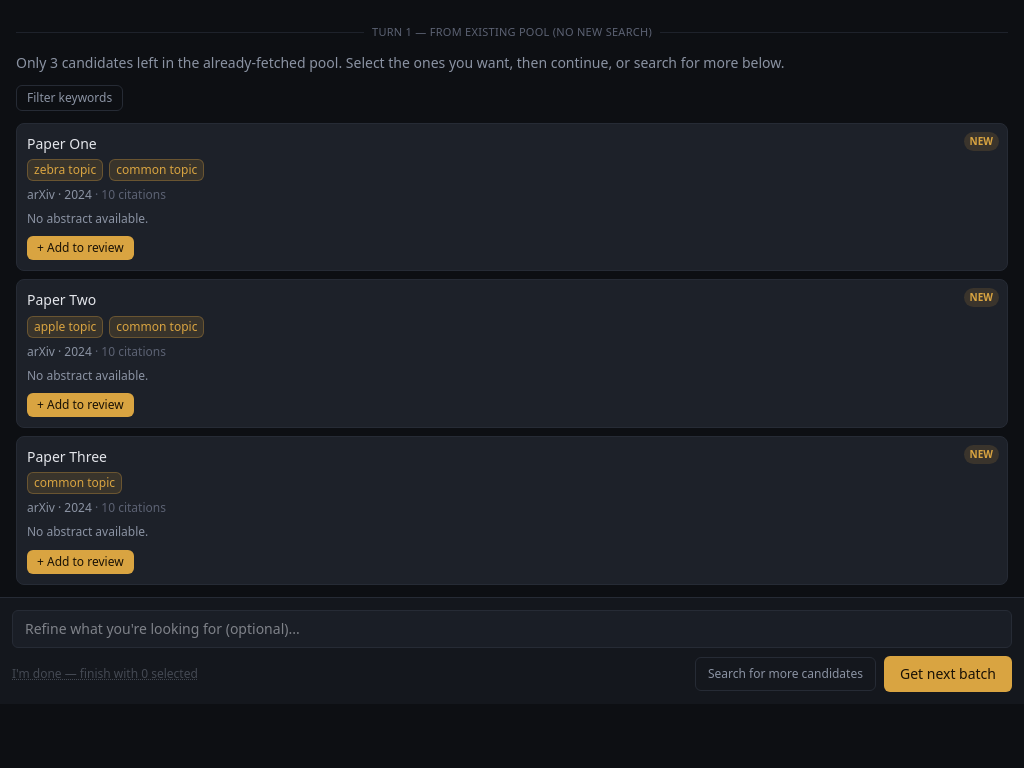
it: ReviewModePanel -- Paper Keywords and Filtering, K4.2: Popular/Browse-all filter › options are sorted by descending paper count, then alphabetically by label for ties
Click the button with test id "keyword-filter-toggle". click: (70, 98)
box: [16,84,123,110]
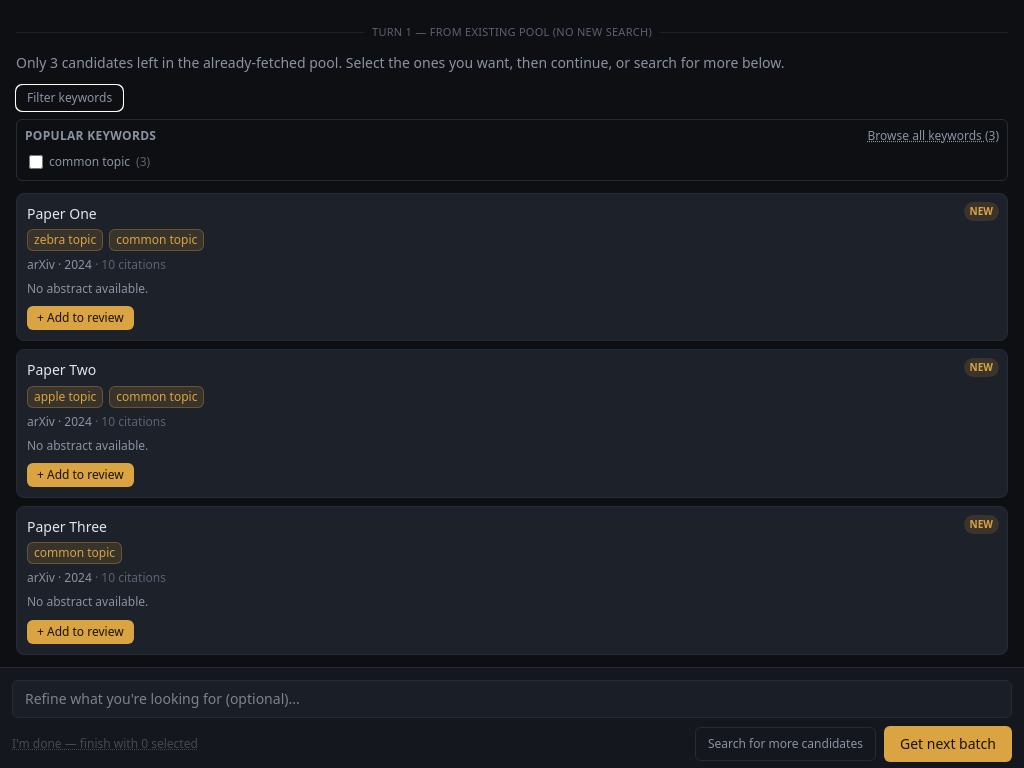
Click the button with test id "keyword-browse-all-toggle". click: (933, 136)
box: [868,128,999,144]
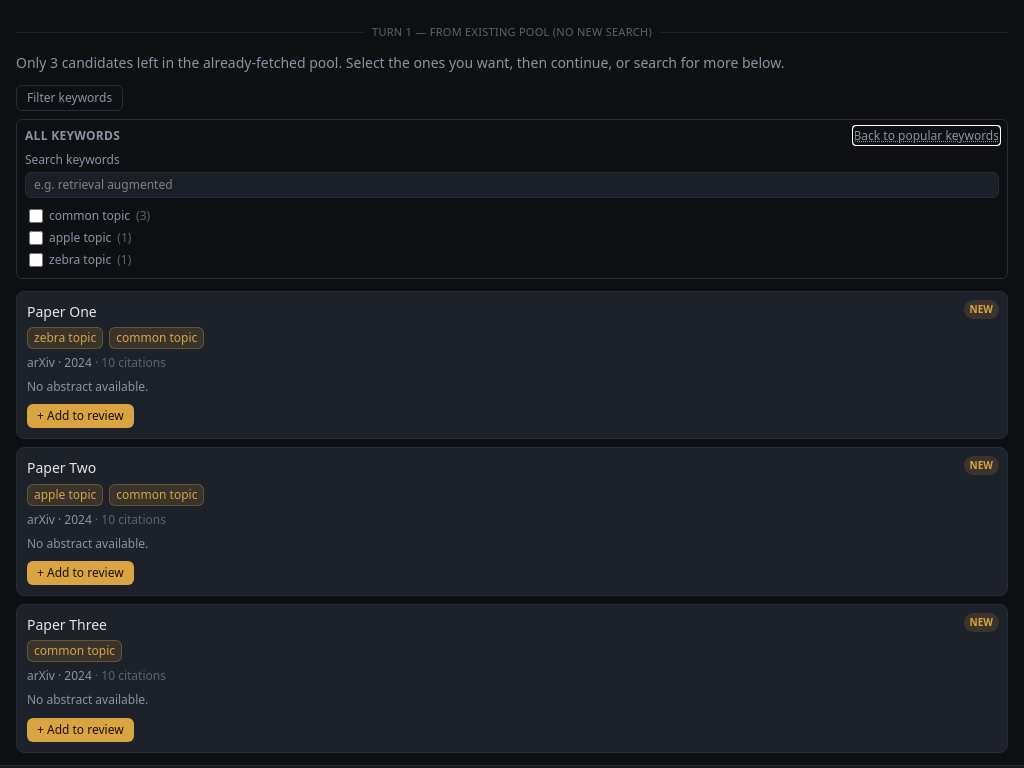
Check: the label with test id "^keyword-filter-option-" shows "common topic", box [49,206,130,224]
Check: the label with test id "^keyword-filter-option-" shows "(3)", box [29,206,150,224]
Check: the label with test id "^keyword-filter-option-" shows "apple topic", box [49,228,111,246]
